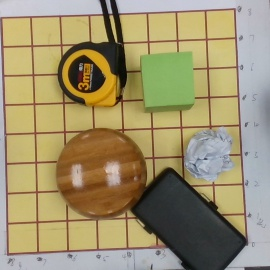chess: (59, 129, 144, 218)
